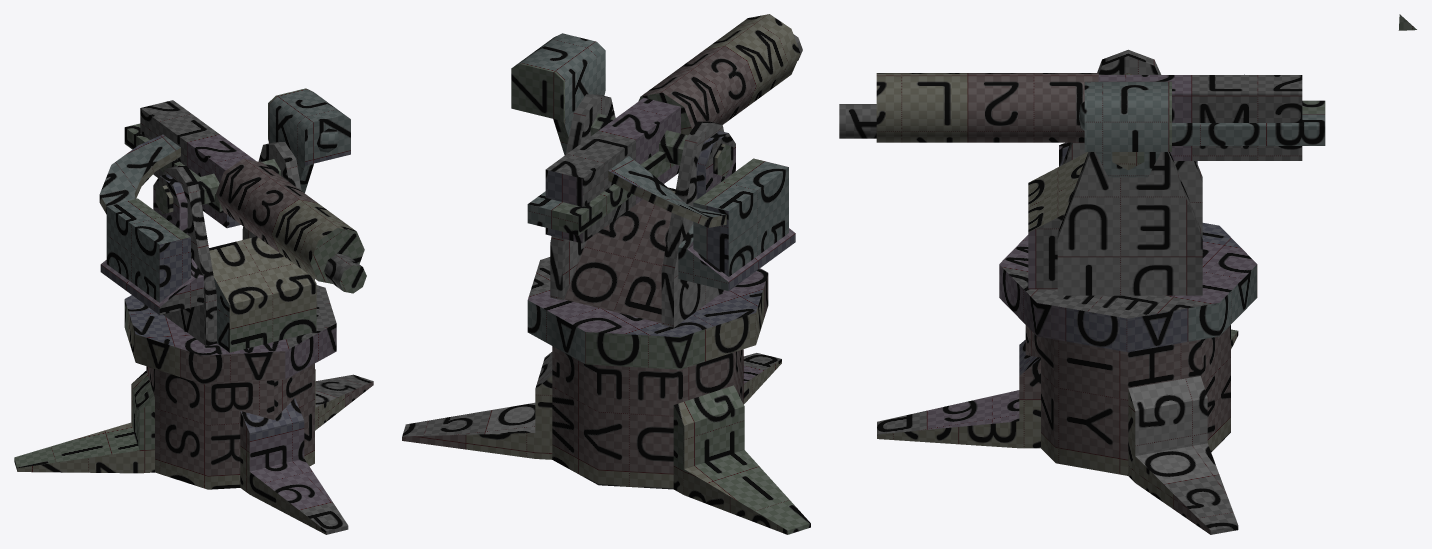
Rendered from low_poly_gun_turret.glb.
3 views of the same model, side by side, from view 1: azimuth 30°, elevation 25°; view 2: azimuth 150°, elevation 25°; view 3: azimuth 270°, elevation 25° (orthographic). The views are drawn at different scales.
Parts seen in each view (by area): view 1: obj1, Turret Base, obj2; view 2: obj1, Turret Base, obj2; view 3: obj2, obj1, Turret Base.
Boxes of the visible parts, left/top/right/bottom form: obj1: left=99, top=88, right=366, bottom=314; Turret Base: left=14, top=363, right=373, bottom=534; obj2: left=124, top=142, right=336, bottom=384; obj1: left=511, top=14, right=802, bottom=290; Turret Base: left=402, top=346, right=810, bottom=534; obj2: left=527, top=94, right=768, bottom=369; obj2: left=999, top=49, right=1257, bottom=352; obj1: left=839, top=14, right=1416, bottom=177; Turret Base: left=877, top=325, right=1238, bottom=534.
Bounding box in the file's own units: 0.1308 × 0.1248 × 0.1561.
Materials: 1 (1 with a texture image).
